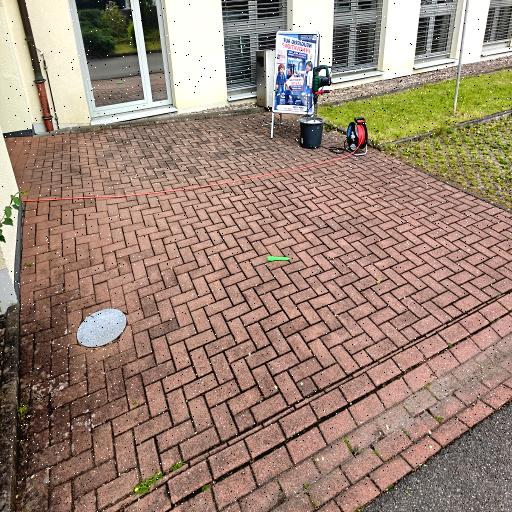Probe-Detection: (268, 256, 290, 262)
